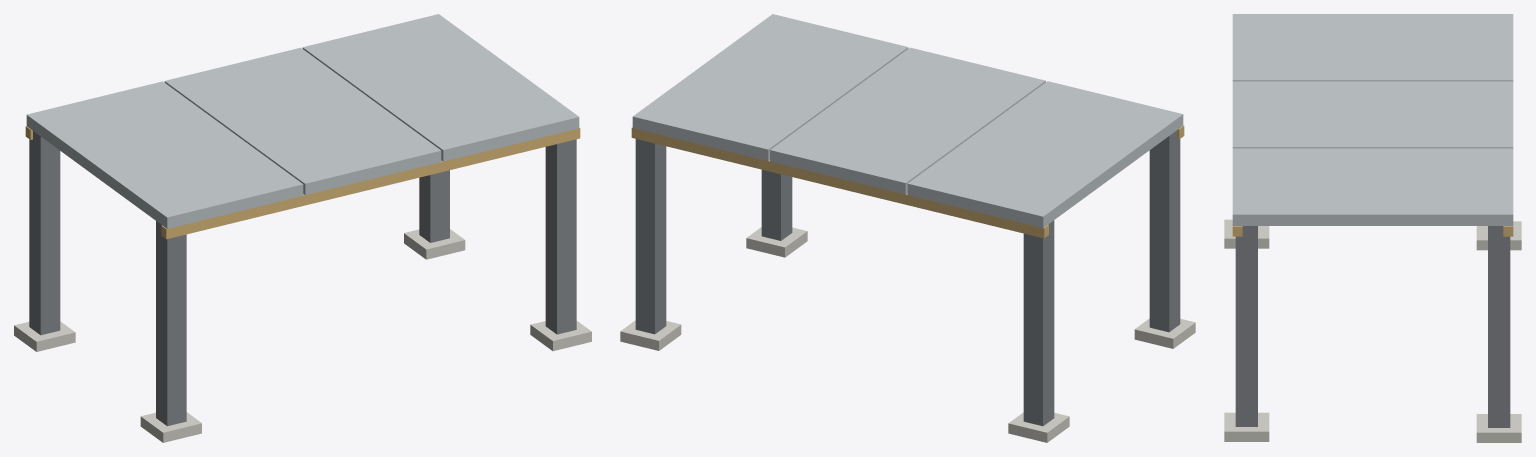
File: lunar-5-2.glb
3 renders of one model, left to right at view 1: azimuth 30°, elevation 25°; view 2: azimuth 150°, elevation 25°; view 3: azimuth 270°, elevation 25°, orthographic.
Parts seen in each view (by area): view 1: lunar-5-2; view 2: lunar-5-2; view 3: lunar-5-2.
Part boxes in pixels (x1,y1,x2,y2): lunar-5-2: [14, 14, 591, 442]; lunar-5-2: [620, 14, 1195, 442]; lunar-5-2: [1224, 14, 1521, 442].
Size of the model in its own units: 35.2 by 17.64 by 21.2.
